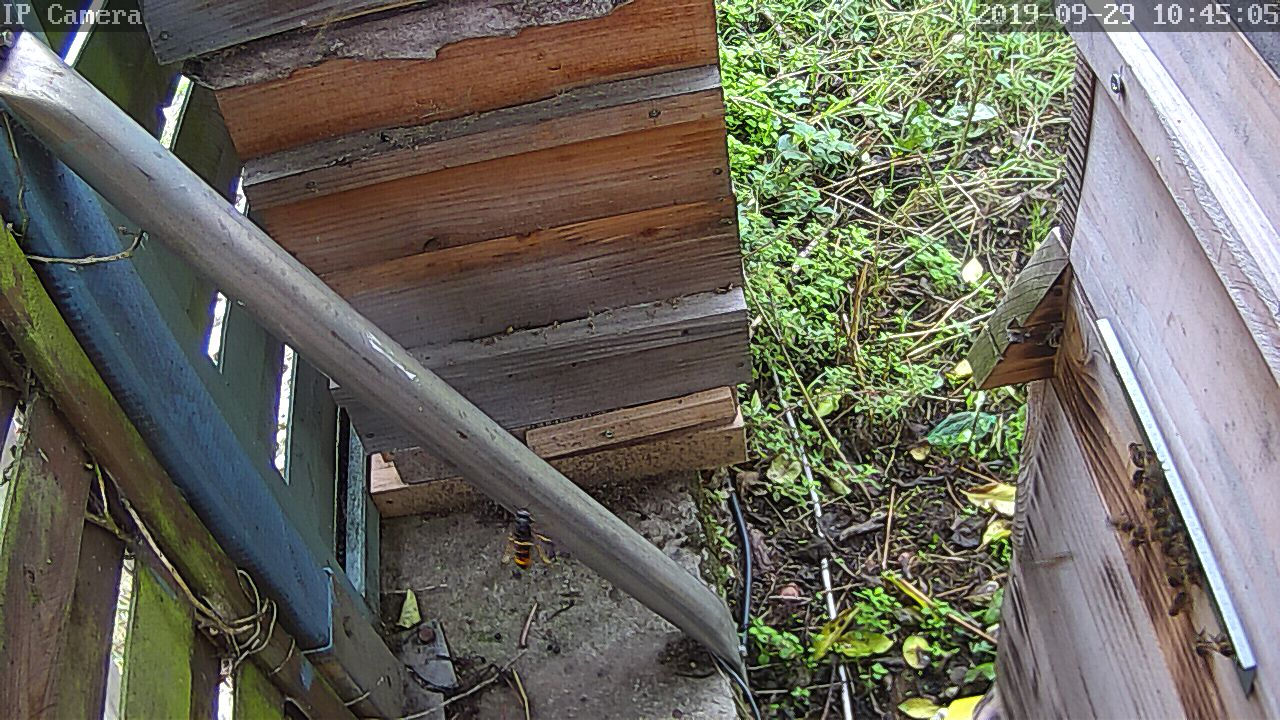bee: (1131, 512, 1186, 562), (1161, 557, 1202, 622), (1187, 622, 1238, 665), (1136, 480, 1179, 520), (1124, 439, 1161, 481)
hornet: (487, 508, 558, 576)
